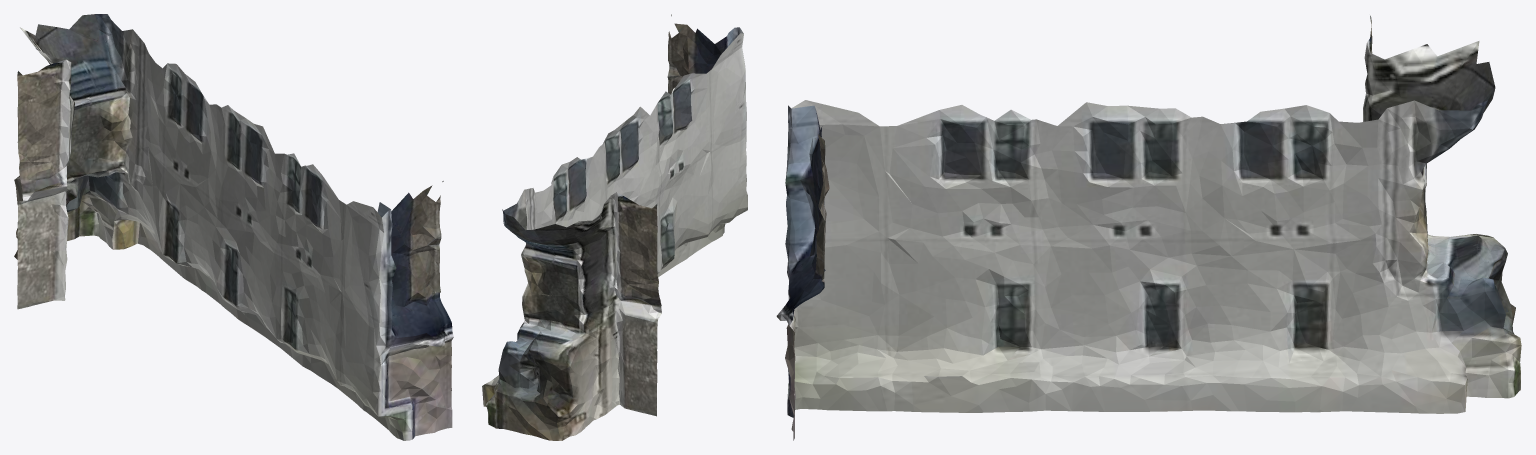
The model's file is tile_4_12_30_tex.obj.
3 views of the same model, side by side, from view 1: azimuth 30°, elevation 25°; view 2: azimuth 150°, elevation 25°; view 3: azimuth 270°, elevation 25° (orthographic). The views are drawn at different scales.
Visible parts, largest first — view 1: obj_0; view 2: obj_0; view 3: obj_0.
Part boxes in pixels (<box>): obj_0: <box>14,14,453,440</box>; obj_0: <box>482,14,747,440</box>; obj_0: <box>776,15,1521,440</box>.
Size of the model in its own units: 10.02 by 11.26 by 25.1.
1 material, 1 textured.
